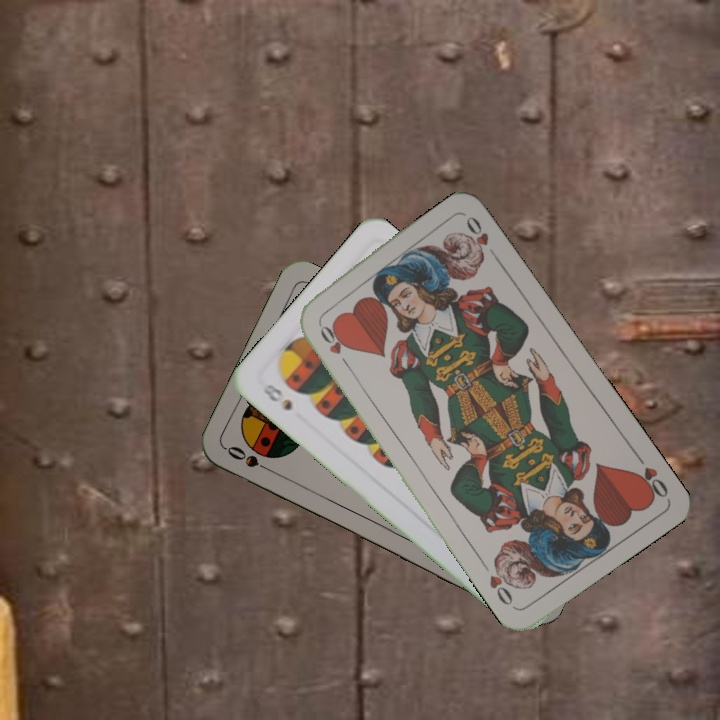HO: (631, 449, 671, 502), (314, 317, 353, 370)
S8: (258, 379, 295, 414)
SO: (222, 441, 278, 476)
